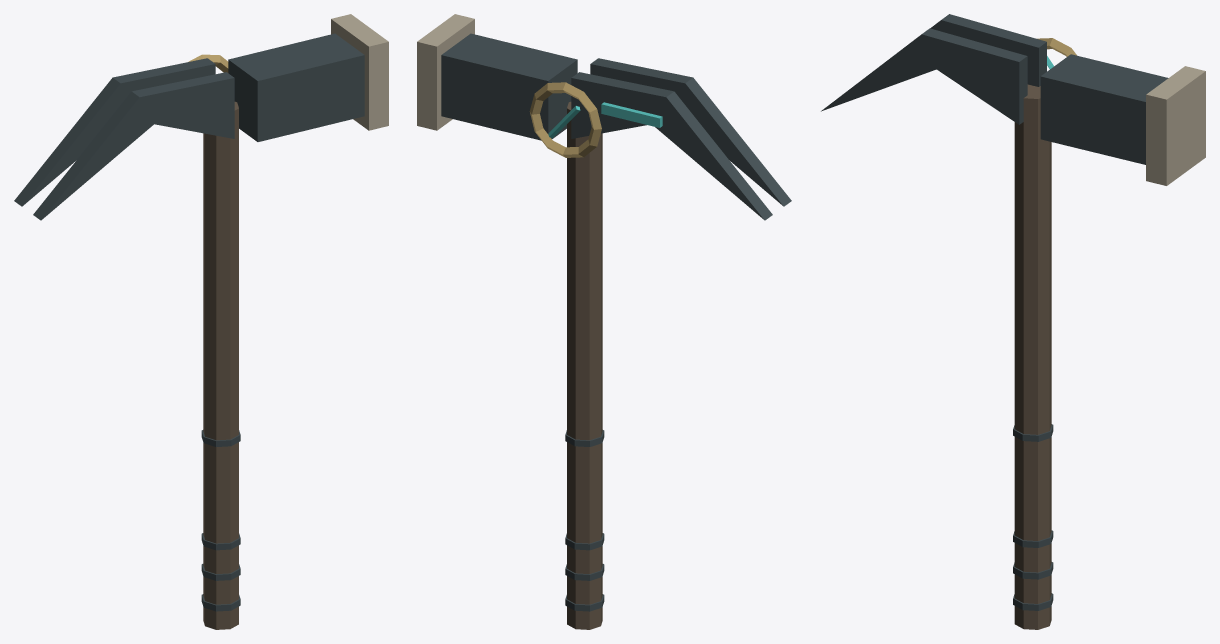
The model's file is Arsenal_FaultfinderPick.fbx.
3 views of the same model, side by side, from view 1: azimuth 30°, elevation 25°; view 2: azimuth 150°, elevation 25°; view 3: azimuth 330°, elevation 25° (orthographic). The views are drawn at different scales.
Parts seen in each view (by area): view 1: Arsenal_FaultfinderPick; view 2: Arsenal_FaultfinderPick; view 3: Arsenal_FaultfinderPick.
Boxes of the visible parts, x1,y1,x2,y2 form: Arsenal_FaultfinderPick: [14, 14, 388, 629]; Arsenal_FaultfinderPick: [417, 14, 791, 629]; Arsenal_FaultfinderPick: [821, 14, 1205, 629].
Size of the model in its own units: 0.9375 by 1.46 by 0.208.
